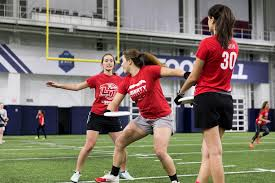disc: (103, 109, 133, 117), (178, 96, 194, 105)
